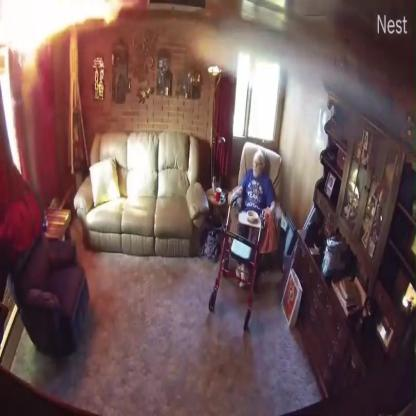fire: (0, 1, 121, 52)
